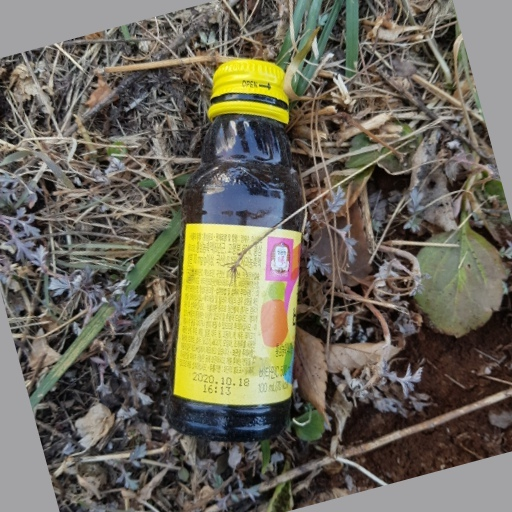Glass_3: (158, 54, 306, 436)
